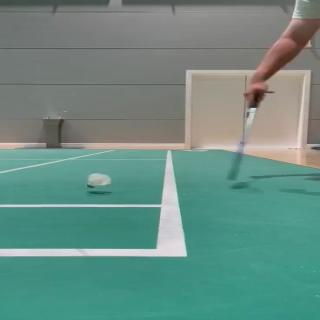Shuttle: (85, 173, 112, 188)
